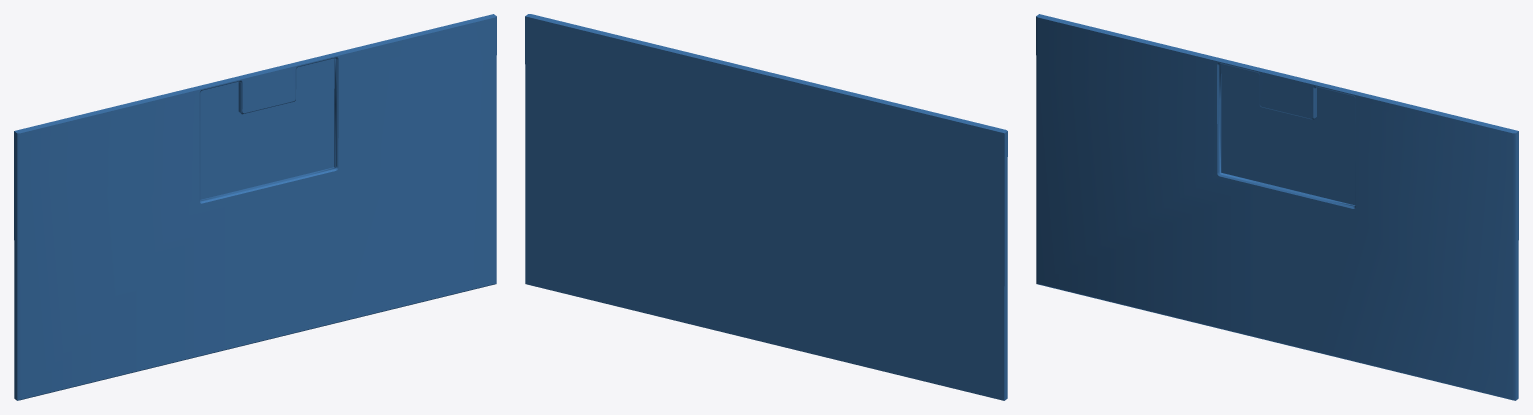
The model's file is Bigsides_box (3).fbx.
The picture shows the model from 3 angles, left to right: view 1: azimuth 30°, elevation 25°; view 2: azimuth 150°, elevation 25°; view 3: azimuth 330°, elevation 25°; orthographic projection.
Parts seen in each view (by area): view 1: Bigsides_box; view 2: Bigsides_box; view 3: Bigsides_box.
Boxes of the visible parts, box(x1,y1,x2,y2) form: Bigsides_box: box(14, 14, 496, 400); Bigsides_box: box(525, 14, 1007, 400); Bigsides_box: box(1036, 14, 1518, 400).
Size of the model in its own units: 2113 by 1127 by 30.22.
